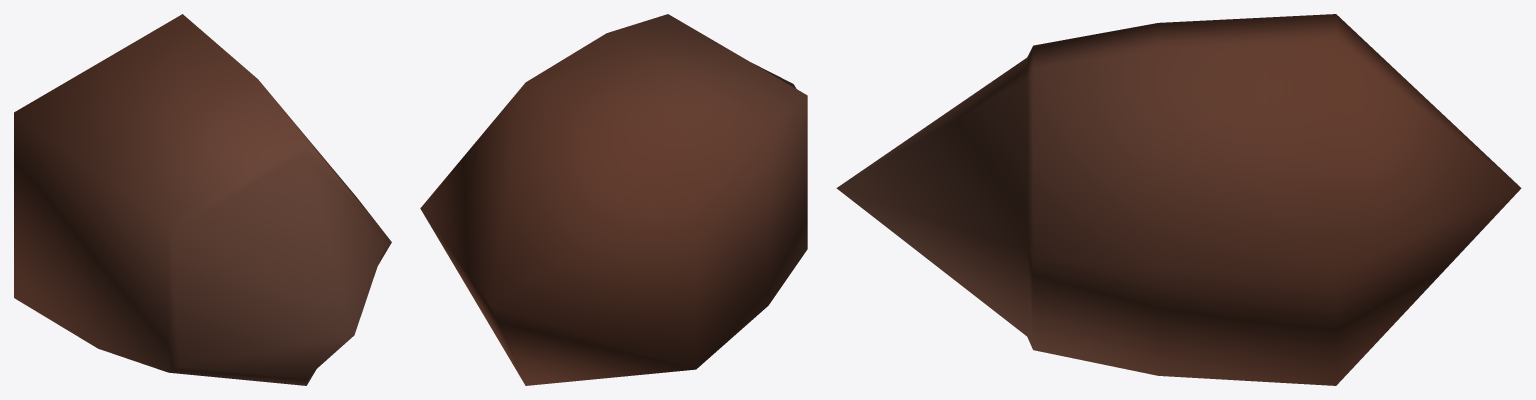
File: part_flower_bud_s01.fbx
3 views of the same model, side by side, from view 1: azimuth 30°, elevation 25°; view 2: azimuth 150°, elevation 25°; view 3: azimuth 270°, elevation 25° (orthographic). The views are drawn at different scales.
Parts seen in each view (by area): view 1: part_flower_bud_s01; view 2: part_flower_bud_s01; view 3: part_flower_bud_s01.
Part boxes in pixels (<box>): part_flower_bud_s01: <box>14,14,391,385</box>; part_flower_bud_s01: <box>420,14,807,385</box>; part_flower_bud_s01: <box>836,14,1521,385</box>.
Bounding box in the file's own units: 0.0105 × 0.0111 × 0.02.
